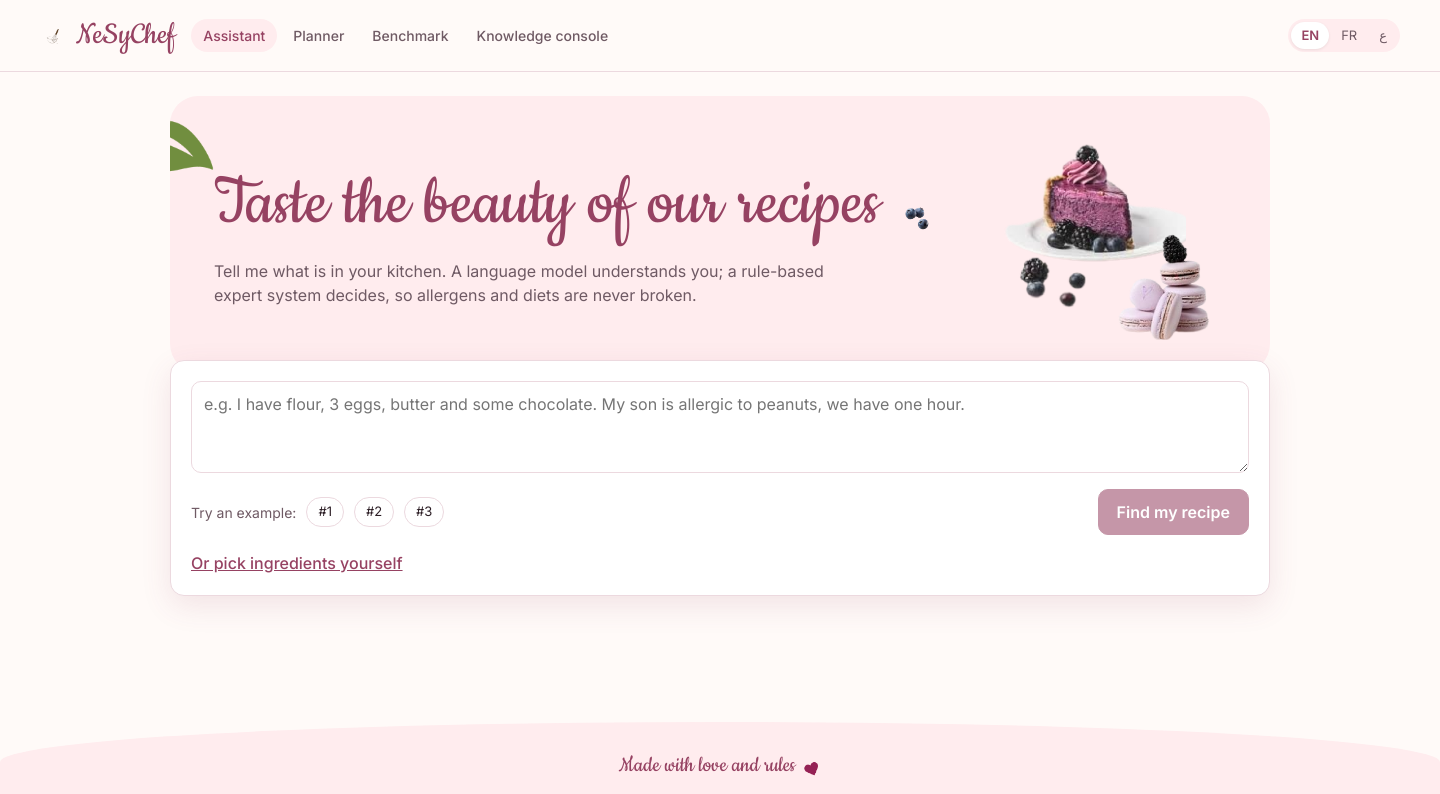
NeSyChef UI › asks in natural language and shows the grounded answer, cards and reasoning
Type "I have flour" into the text box at (720, 427), box [191,381,1249,473]
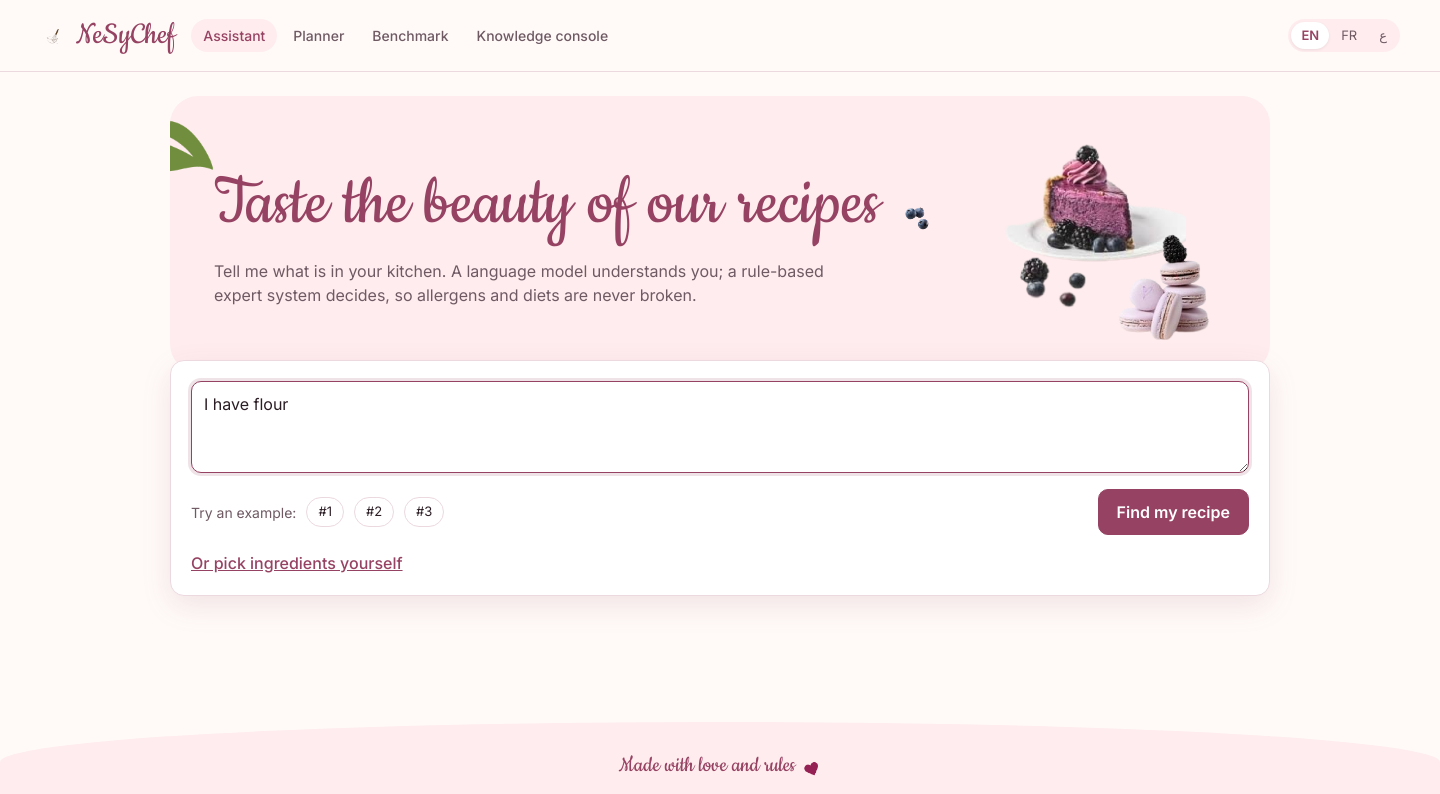
Click the button "Find my recipe" at (1173, 512), box [1098,489,1249,535]
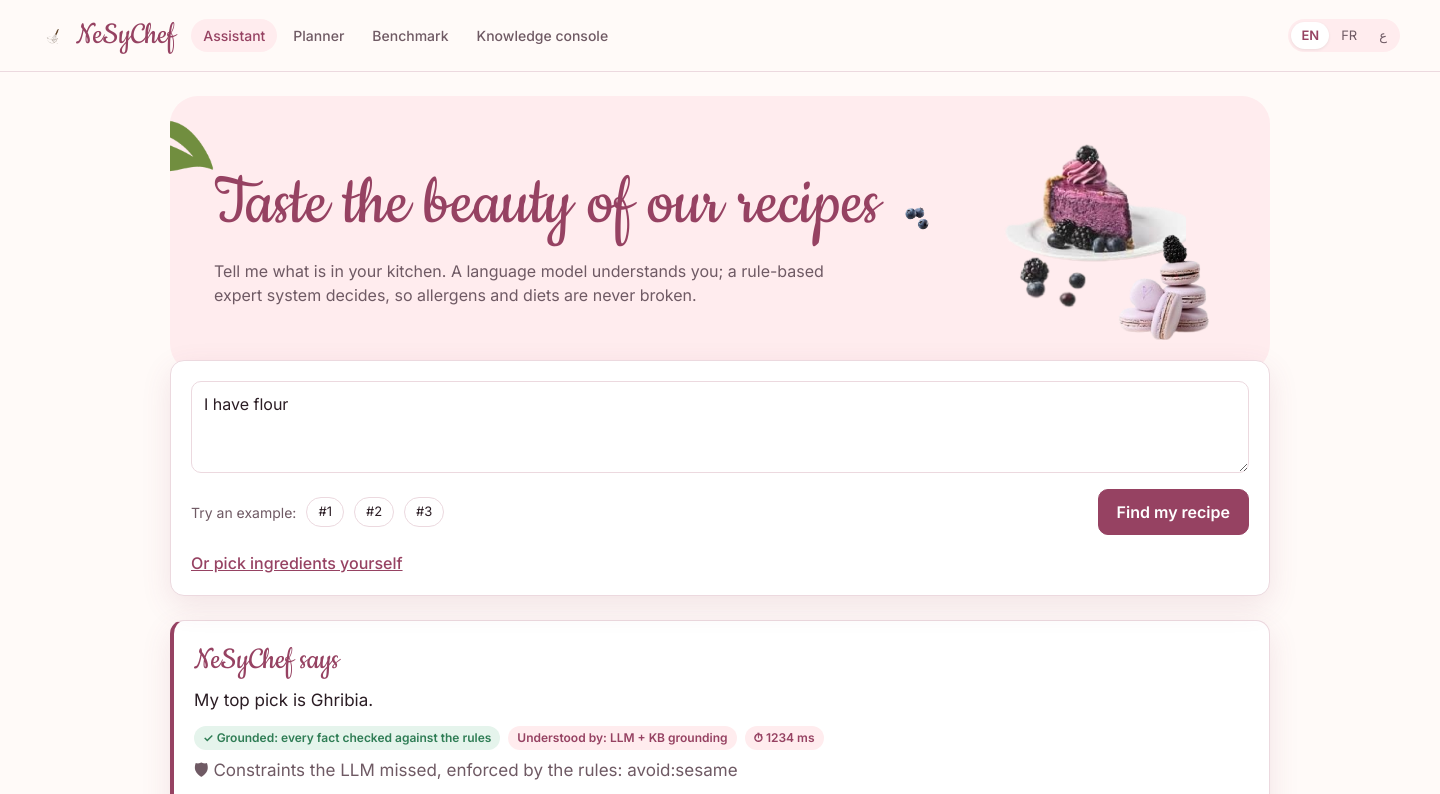
Expected: the text "My top pick is Ghribia." is shown, [194,690,373,710]
Expected: the text "✓ Grounded: every fact checked against the rules" is shown, [194,726,500,750]
Expected: the text "avoid:sesame" is shown, [627,760,738,780]
